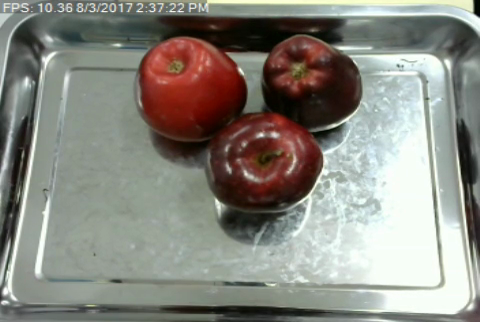Apple: (202, 109, 329, 216), (132, 31, 251, 143), (258, 29, 367, 134)
